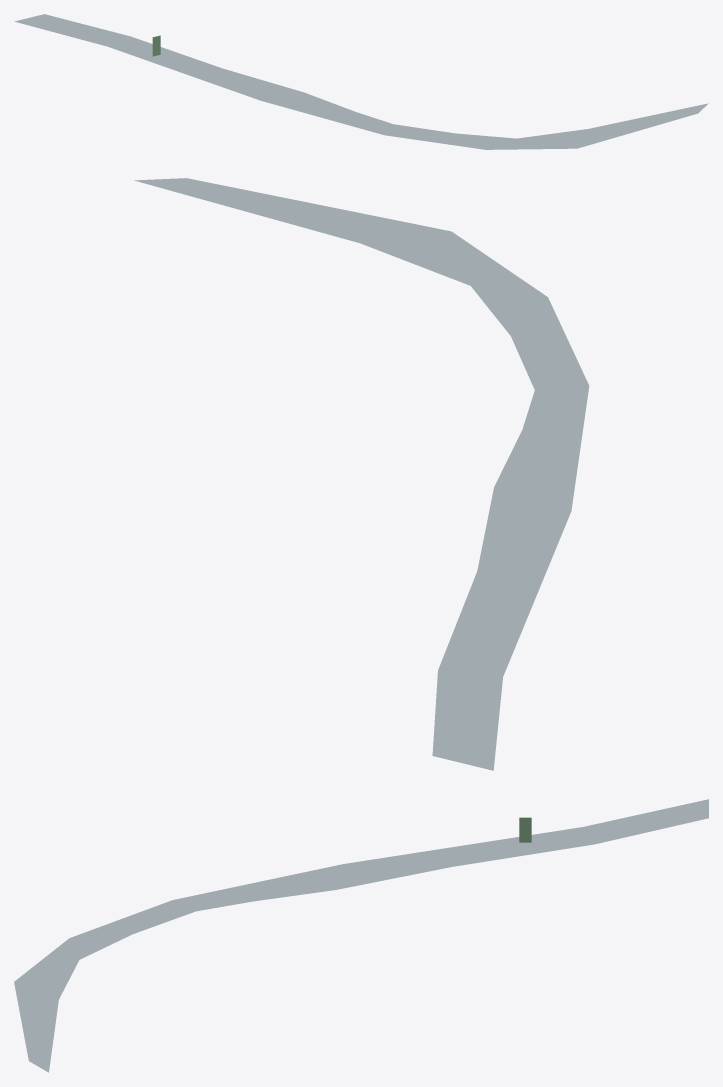
3 renders of one model, top to bottom at view 1: azimuth 30°, elevation 25°; view 2: azimuth 150°, elevation 25°; view 3: azimuth 270°, elevation 25°, orthographic. The views are drawn at different scales.
Bounding box in the file's own units: 159 × 7.01 × 170.
